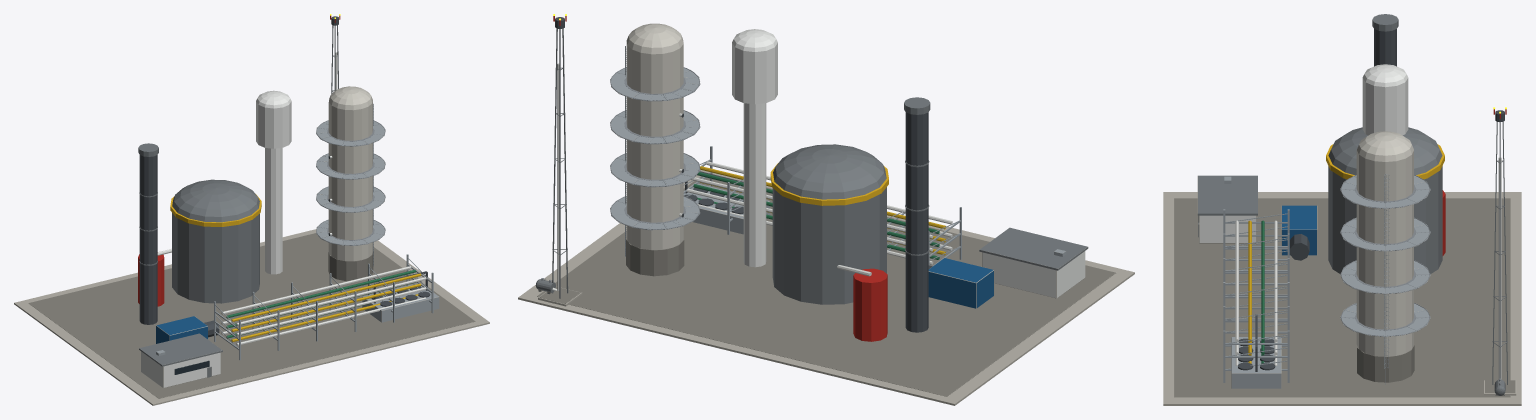
Rendered from ref_fcc.glb.
3 views of the same model, side by side, from view 1: azimuth 30°, elevation 25°; view 2: azimuth 150°, elevation 25°; view 3: azimuth 270°, elevation 25° (orthographic). The views are drawn at different scales.
Parts seen in each view (by area): view 1: ref_fcc; view 2: ref_fcc; view 3: ref_fcc.
Boxes of the visible parts, x1,y1,x2,y2 form: ref_fcc: (14, 14, 489, 405); ref_fcc: (518, 14, 1134, 405); ref_fcc: (1163, 14, 1521, 405).
Size of the model in its own units: 70 by 43.46 by 50.
